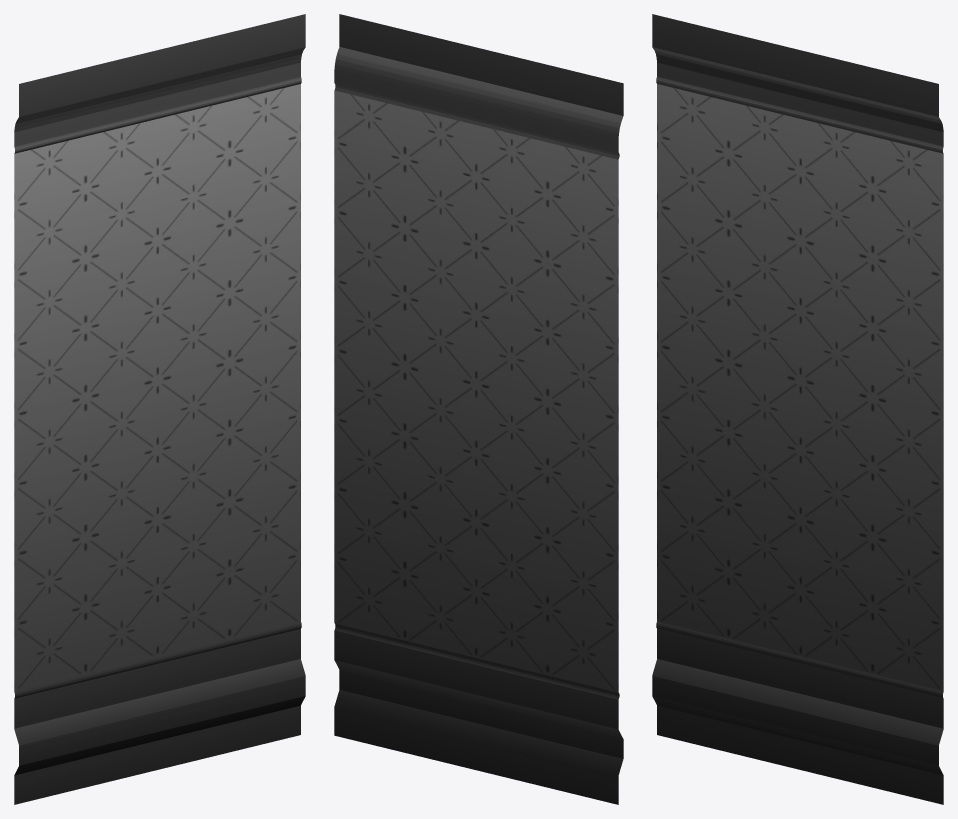
Rendered from Wall_02_Single_Extra_Dark.fbx.
3 views of the same model, side by side, from view 1: azimuth 30°, elevation 25°; view 2: azimuth 150°, elevation 25°; view 3: azimuth 330°, elevation 25° (orthographic).
Parts seen in each view (by area): view 1: Wall_02_Single_Dark_Extra; view 2: Wall_02_Single_Dark_Extra; view 3: Wall_02_Single_Dark_Extra.
Part boxes in pixels (bbox=[...]): Wall_02_Single_Dark_Extra: bbox=[14, 14, 305, 804]; Wall_02_Single_Dark_Extra: bbox=[334, 14, 623, 804]; Wall_02_Single_Dark_Extra: bbox=[652, 14, 943, 804].
Size of the model in its own units: 1.1 by 2.65 by 0.0329.
